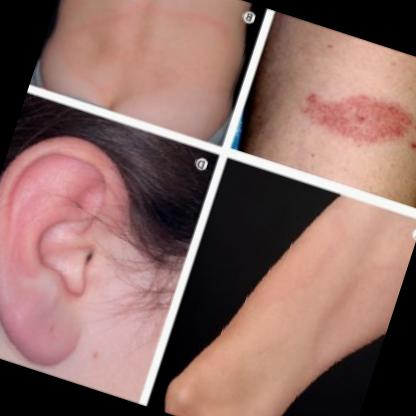Healthy Skin: (261, 216, 385, 370)
Ringworm: (50, 0, 244, 129), (289, 58, 416, 167)
